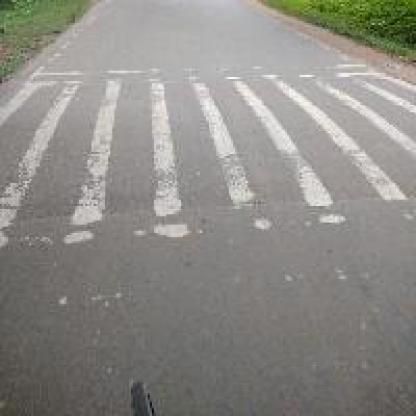Speed Bump: (0, 50, 414, 324)
